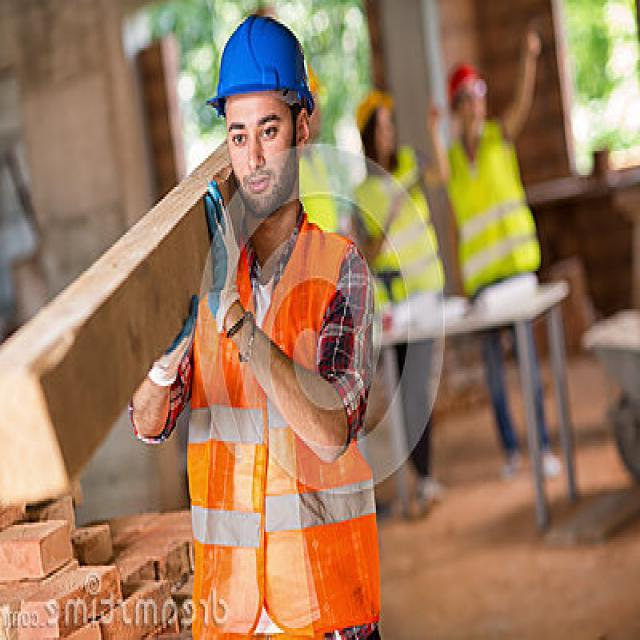safetyhelmet: (209, 17, 312, 174)
